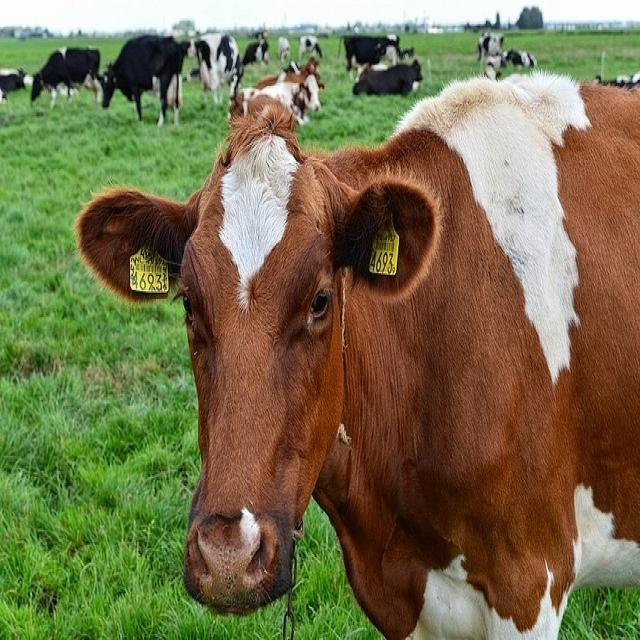cow: (71, 57, 640, 640)
